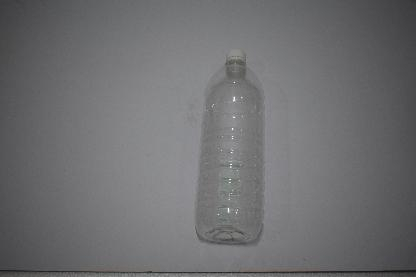Plastic Bottle: (194, 49, 265, 244)
